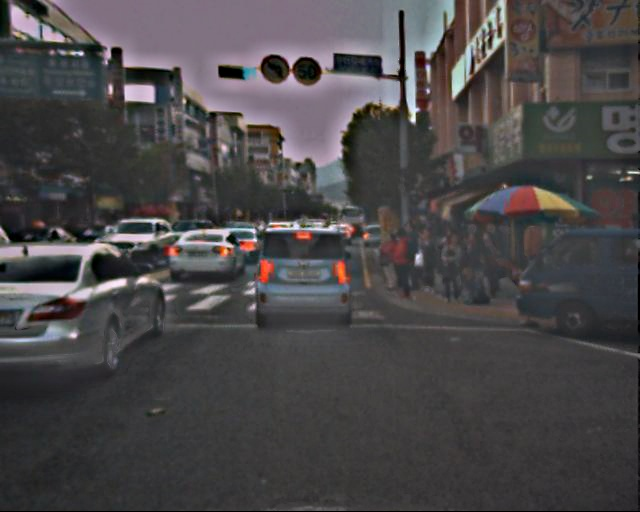person: (516, 217, 547, 292), (386, 227, 416, 299), (414, 226, 441, 292), (435, 235, 462, 301), (477, 216, 504, 282), (475, 232, 501, 295), (457, 220, 482, 282), (378, 233, 400, 287), (459, 232, 480, 284)
